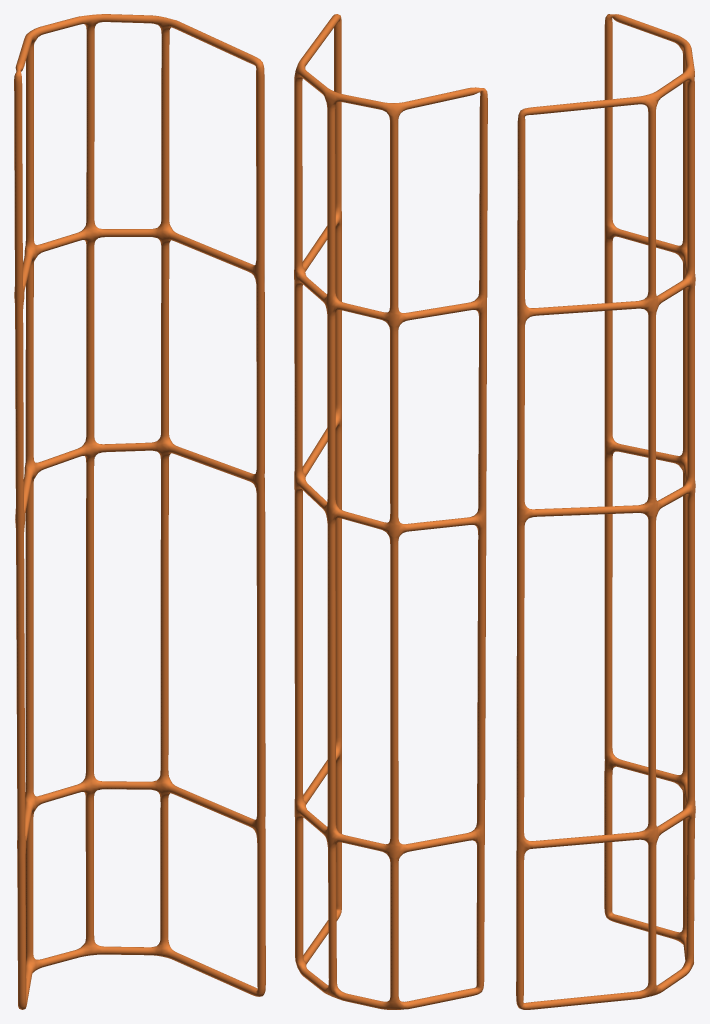
Rendered from fillerhotelart.fbx.
The picture shows the model from 3 angles, left to right: view 1: azimuth 30°, elevation 25°; view 2: azimuth 150°, elevation 25°; view 3: azimuth 270°, elevation 25°; orthographic projection. The views are drawn at different scales.
Parts seen in each view (by area): view 1: Cube; view 2: Cube; view 3: Cube.
Boxes of the visible parts, left/top/right/bottom form: Cube: left=14, top=14, right=265, bottom=1009; Cube: left=294, top=14, right=487, bottom=1009; Cube: left=516, top=14, right=695, bottom=1009.
Bounding box in the file's own units: 213 × 938 × 169.
